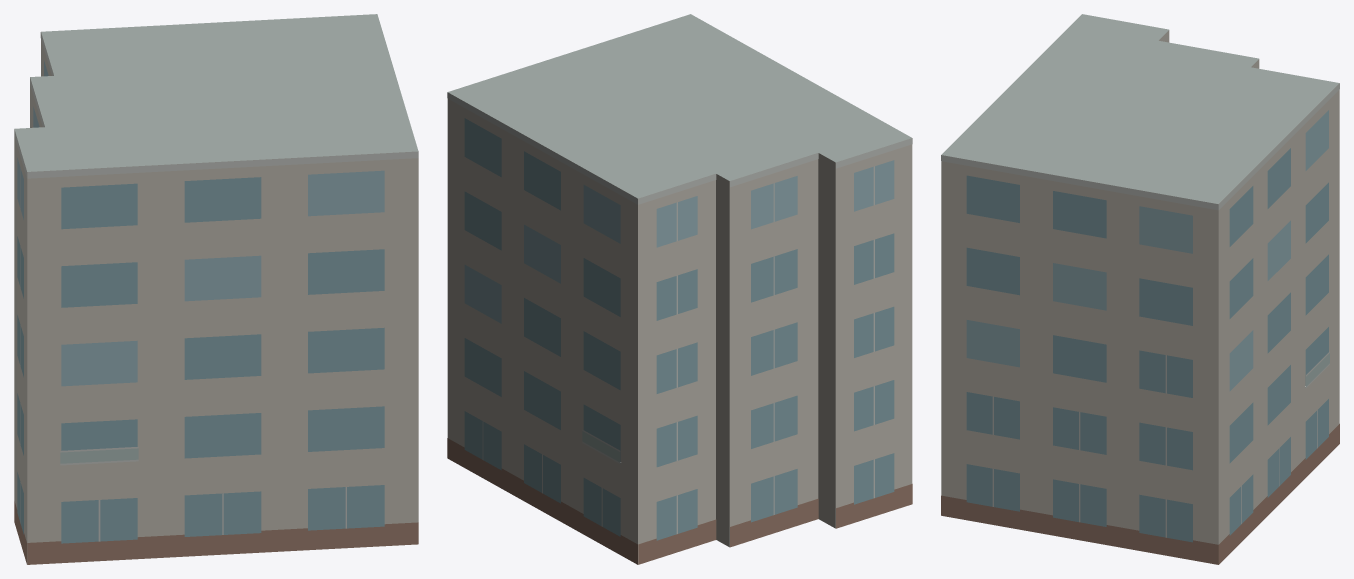
Rendered from survey-upis-32720466.glb.
3 renders of one model, left to right at view 1: azimuth 30°, elevation 25°; view 2: azimuth 150°, elevation 25°; view 3: azimuth 270°, elevation 25°, orthographic. The views are drawn at different scales.
Parts seen in each view (by area): view 1: survey-upis-32720466.tmp; view 2: survey-upis-32720466.tmp; view 3: survey-upis-32720466.tmp.
Part boxes in pixels (left/top/right/bottom): survey-upis-32720466.tmp: left=14, top=14, right=418, bottom=564; survey-upis-32720466.tmp: left=447, top=14, right=912, bottom=564; survey-upis-32720466.tmp: left=941, top=14, right=1339, bottom=564.
Bounding box in the file's own units: 16.18 × 14.3 × 14.33.
